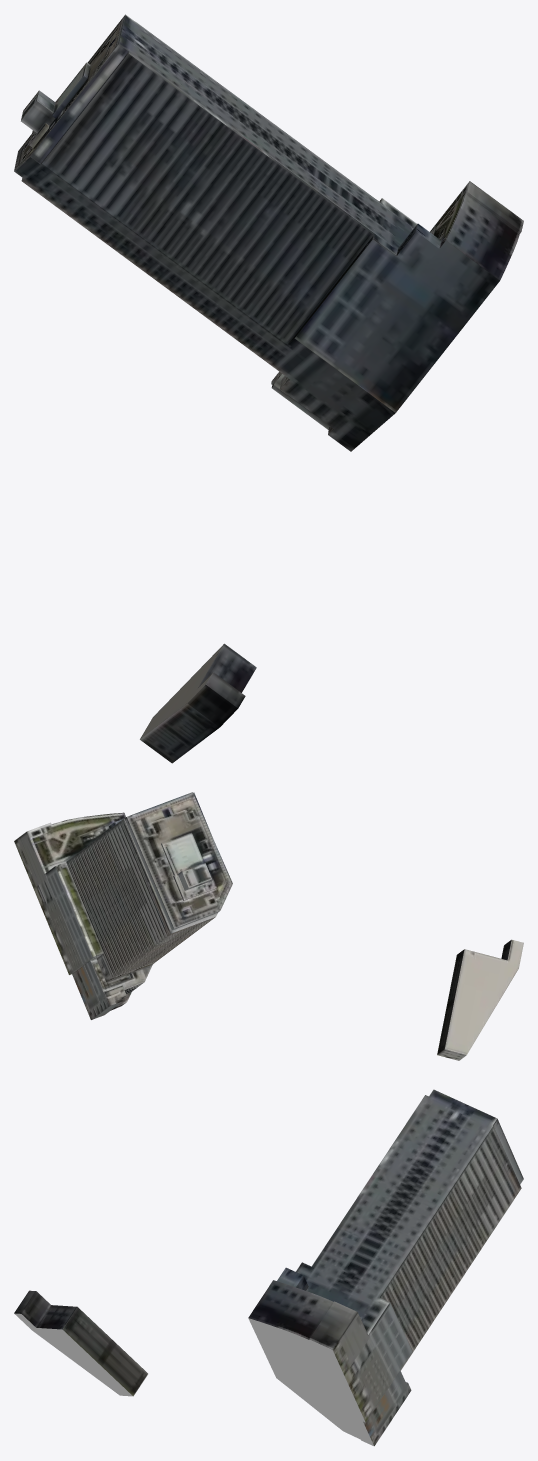
Rendered from 4939_bldg_Building.glb.
3 renders of one model, top to bottom at view 1: azimuth 30°, elevation 25°; view 2: azimuth 150°, elevation 25°; view 3: azimuth 270°, elevation 25°, orthographic. The views are drawn at different scales.
Bounding box in the file's own units: 147 × 135 × 171.
Materials: 2 (1 with a texture image).
